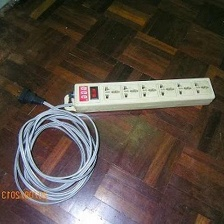three_eye_plug: (69, 75, 216, 116)
